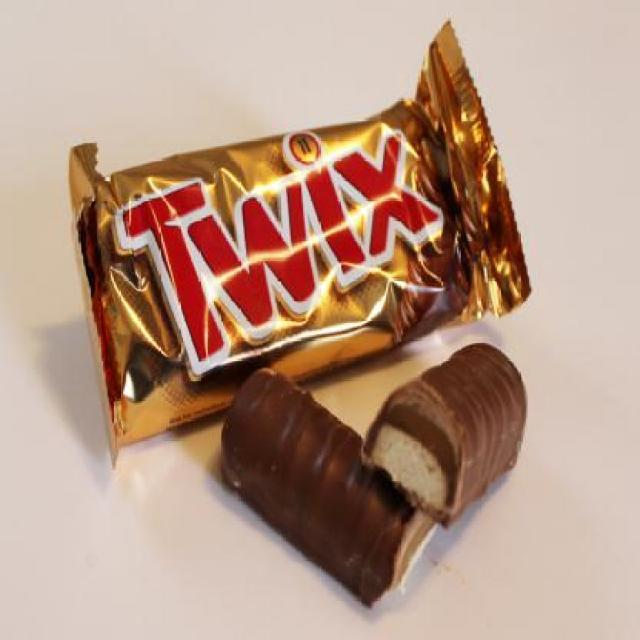Chocolate bar: (68, 14, 536, 470)
Chocolate bar packaged: (218, 368, 450, 618), (366, 342, 526, 530)
